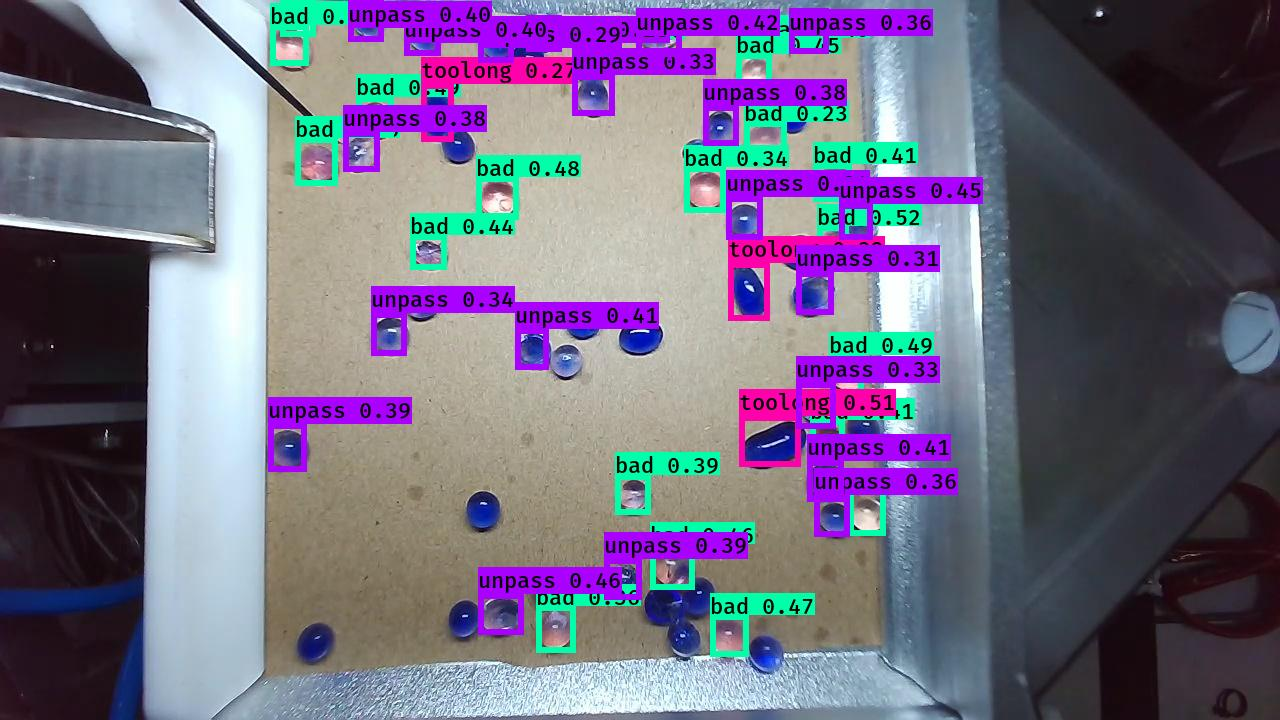bad: (649, 545, 695, 590), (295, 143, 342, 187), (477, 177, 519, 221), (684, 170, 724, 215), (272, 29, 313, 70), (706, 617, 747, 658), (845, 496, 886, 536), (746, 123, 783, 164), (359, 101, 395, 142), (538, 611, 574, 652), (814, 229, 852, 266), (409, 241, 451, 274), (817, 163, 854, 200), (828, 359, 867, 394), (761, 14, 795, 53), (614, 478, 651, 513), (282, 1, 319, 35), (329, 118, 365, 152), (737, 55, 769, 93), (811, 426, 845, 459), (575, 22, 605, 53)
defact: (682, 134, 719, 169)
pass: (617, 318, 663, 357), (296, 622, 336, 665), (530, 567, 569, 611), (643, 587, 686, 626), (847, 410, 882, 456), (465, 489, 502, 532), (446, 597, 481, 641), (565, 302, 605, 339), (511, 44, 546, 84), (780, 235, 817, 272), (667, 623, 703, 660), (574, 49, 606, 90), (686, 574, 715, 619), (443, 127, 476, 164), (777, 100, 809, 135)
toolong: (738, 416, 806, 472), (726, 262, 768, 323), (422, 84, 458, 142)
unpass: (267, 428, 313, 473), (792, 277, 837, 321), (638, 11, 684, 52), (481, 591, 522, 637), (370, 316, 410, 358), (748, 632, 786, 676), (808, 462, 845, 502), (796, 11, 833, 51), (350, 1, 385, 43), (401, 284, 439, 322), (406, 17, 443, 56), (517, 333, 552, 373), (477, 24, 514, 61), (727, 203, 761, 243), (817, 496, 853, 533), (345, 137, 382, 173), (549, 343, 585, 380), (842, 209, 876, 248), (799, 388, 835, 424), (703, 107, 736, 146), (607, 562, 641, 599), (528, 16, 560, 52), (579, 83, 611, 119)
